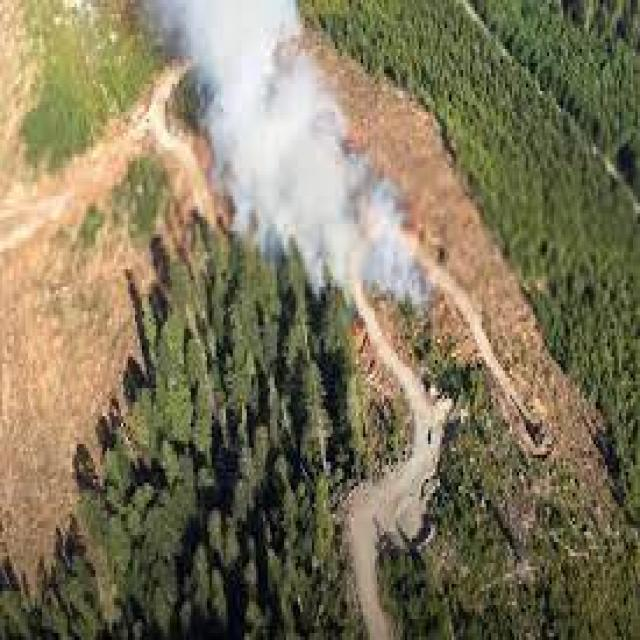Smoke: (136, 0, 441, 313)
